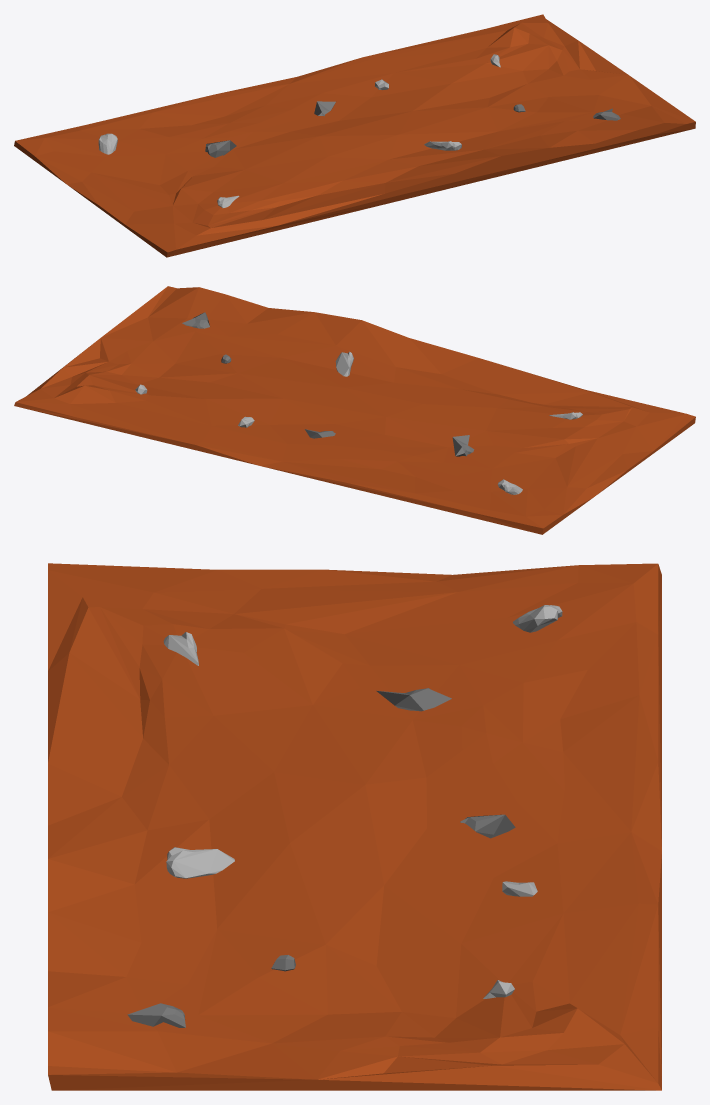
File: Tierra.fbx
3 renders of one model, top to bottom at view 1: azimuth 30°, elevation 25°; view 2: azimuth 150°, elevation 25°; view 3: azimuth 270°, elevation 25°, orthographic. The views are drawn at different scales.
Visible parts, largest first — view 1: Tierra; view 2: Tierra; view 3: Tierra, Cubo.005, Cubo.004, Cubo.008, Cubo.007, Cubo.002.
Part boxes in pixels (box(x1,y1,x2,y2)): Tierra: box(14, 14, 695, 257); Tierra: box(14, 286, 695, 534); Tierra: box(48, 563, 661, 1090); Cubo.005: box(166, 847, 234, 878); Cubo.004: box(376, 688, 451, 711); Cubo.008: box(127, 1003, 185, 1027); Cubo.007: box(513, 605, 562, 632); Cubo.002: box(460, 814, 515, 838).
Bounding box in the file's own units: 1200 × 604 × 72.81.
